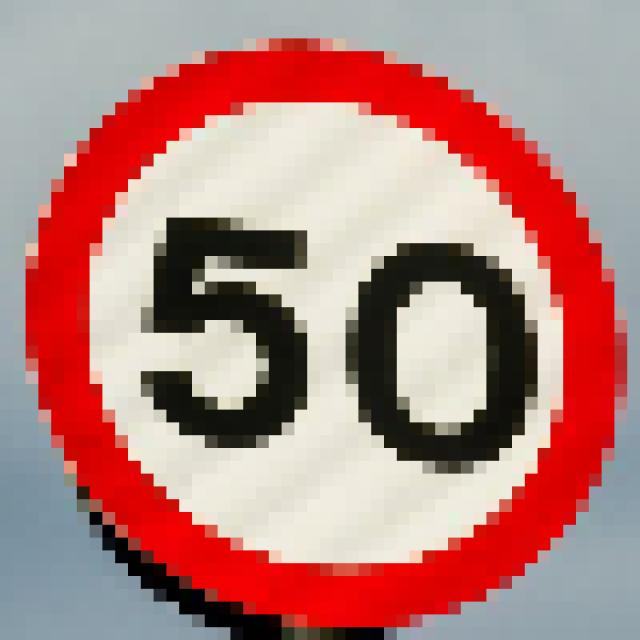Limite-50: (23, 32, 629, 626)
